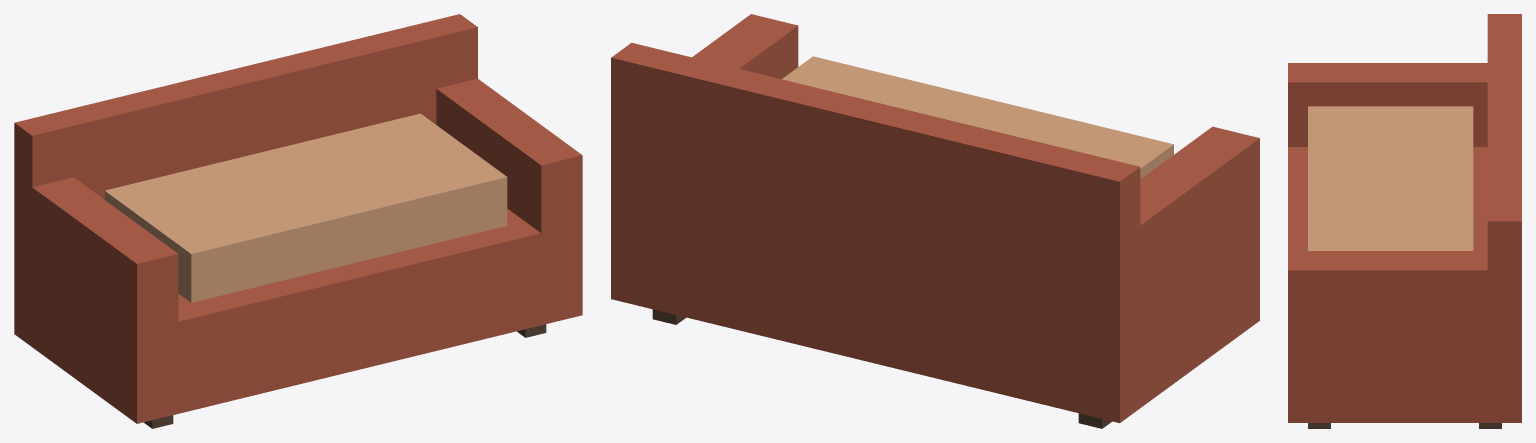
The model's file is sofa.glb.
3 views of the same model, side by side, from view 1: azimuth 30°, elevation 25°; view 2: azimuth 150°, elevation 25°; view 3: azimuth 270°, elevation 25° (orthographic). The views are drawn at different scales.
Bounding box in the file's own units: 1.72 × 0.85 × 0.82.
